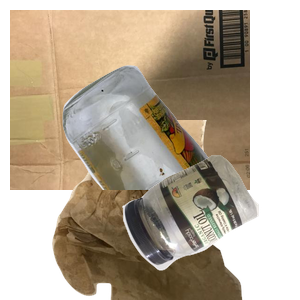cardboard: (10, 10, 250, 190)
glass: (60, 63, 300, 243)
plastic: (120, 152, 300, 300)
trash: (50, 120, 285, 300)
